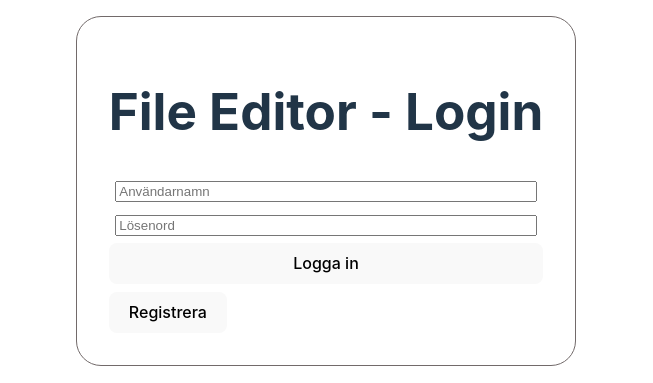
Test: Signup view › Signup view renders
Click the button "Registrera". click: (168, 312)
box: [109,292,227,333]
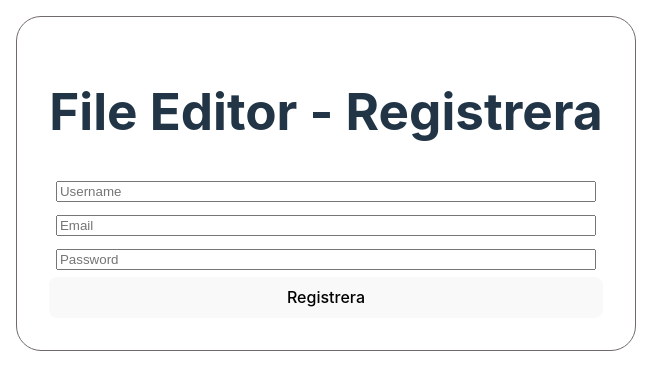
Expected: the heading "File Editor - Registrera" is shown, [49,83,603,140]
